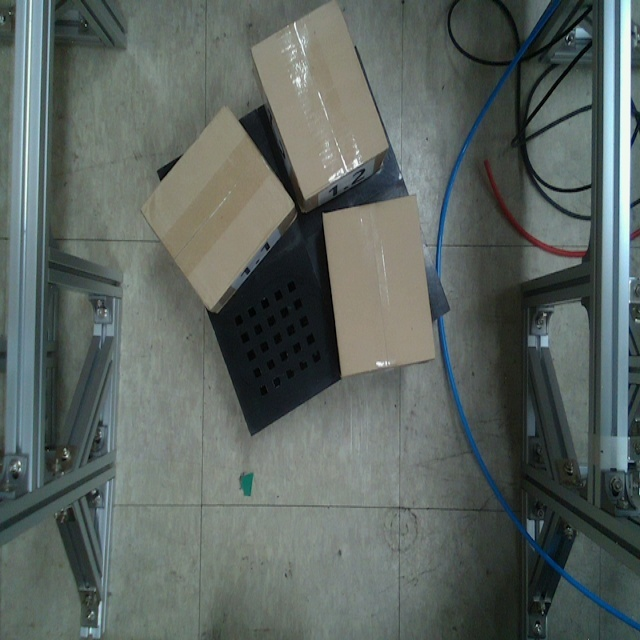box: (138, 105, 297, 313), (249, 1, 389, 201), (319, 191, 438, 379)
